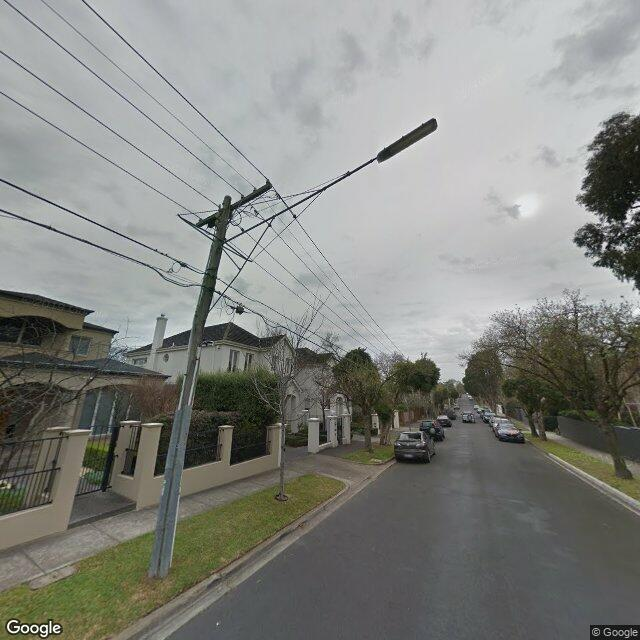crossarm: (195, 182, 273, 228)
streetlight: (219, 118, 438, 245)
timber-pole: (149, 196, 232, 580)
